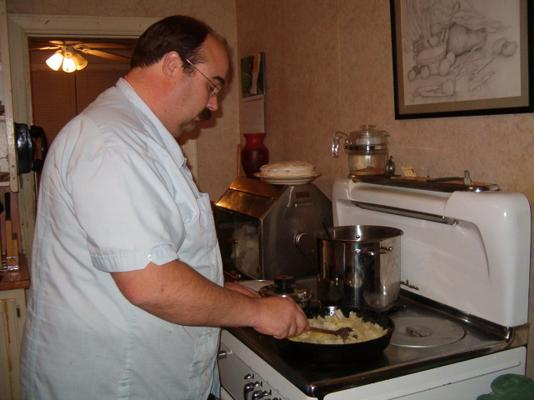person: (23, 15, 312, 398)
